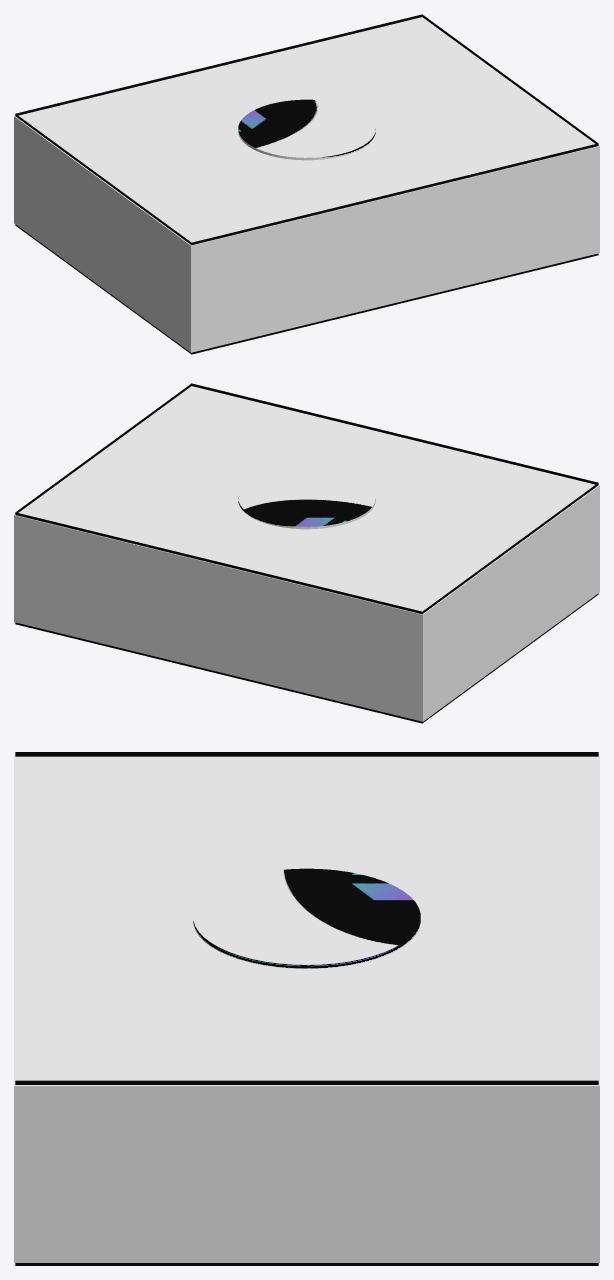
File: Gallery.glb
3 views of the same model, one above another, from view 1: azimuth 30°, elevation 25°; view 2: azimuth 150°, elevation 25°; view 3: azimuth 270°, elevation 25° (orthographic). The views are drawn at different scales.
Visible parts, largest first — view 1: Roof, Side Wall, Front Wall, Cylinder, Skirting.001, Skirting; view 2: Roof, Side Wall2, Front Wall, Cylinder, Skirting.001, Skirting; view 3: Roof, Back Wall, Cylinder, Skirting.001, Skirting.
Boxes of the visible parts, x1,y1,x2,y2 form: Roof: (14, 17, 599, 245); Side Wall: (191, 146, 599, 352); Front Wall: (14, 116, 190, 352); Cylinder: (238, 99, 375, 160); Skirting.001: (15, 14, 598, 245); Skirting: (15, 224, 598, 354); Roof: (14, 386, 599, 614); Side Wall2: (14, 515, 422, 721); Front Wall: (423, 485, 599, 721); Cylinder: (238, 468, 375, 529); Skirting.001: (15, 383, 598, 614); Skirting: (15, 593, 598, 723); Roof: (14, 755, 599, 1085); Back Wall: (14, 1086, 599, 1262); Cylinder: (193, 868, 420, 968); Skirting.001: (15, 752, 598, 1084); Skirting: (15, 1263, 598, 1265).
Size of the model in its own units: 24 by 6.28 by 18.
12 materials, 7 textured.
